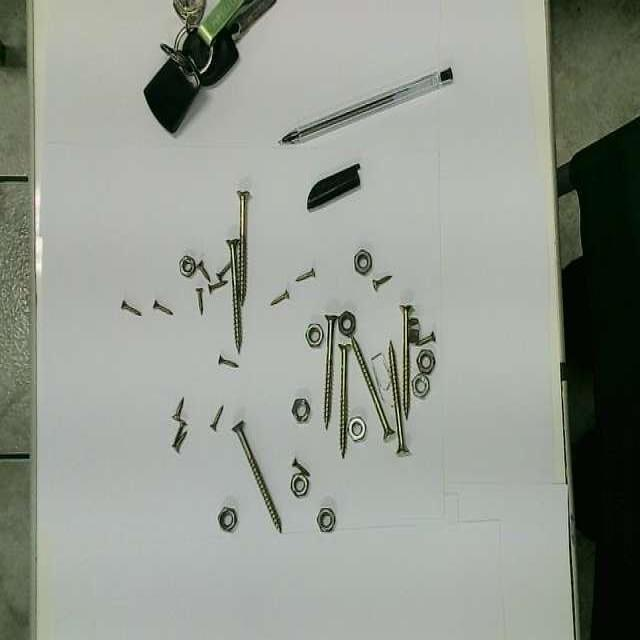Parafuso: (232, 422, 281, 533), (351, 338, 394, 439), (388, 342, 410, 456), (227, 239, 241, 353), (324, 315, 337, 429), (400, 304, 413, 418), (237, 191, 249, 303), (339, 344, 350, 458), (172, 420, 187, 451), (210, 406, 223, 430), (121, 300, 141, 315), (197, 260, 210, 282), (373, 275, 392, 290), (295, 268, 315, 282), (271, 290, 289, 305), (153, 300, 172, 314), (172, 398, 183, 421), (417, 332, 435, 346), (218, 355, 238, 367), (208, 280, 226, 293), (217, 262, 230, 279), (196, 288, 203, 314)
Porca: (338, 311, 356, 337), (218, 507, 236, 531), (292, 399, 310, 423), (305, 323, 323, 347), (417, 350, 435, 374), (317, 508, 335, 531), (354, 250, 371, 274), (412, 374, 429, 398), (349, 416, 365, 441), (291, 474, 308, 497), (179, 255, 195, 277), (409, 318, 419, 343)
